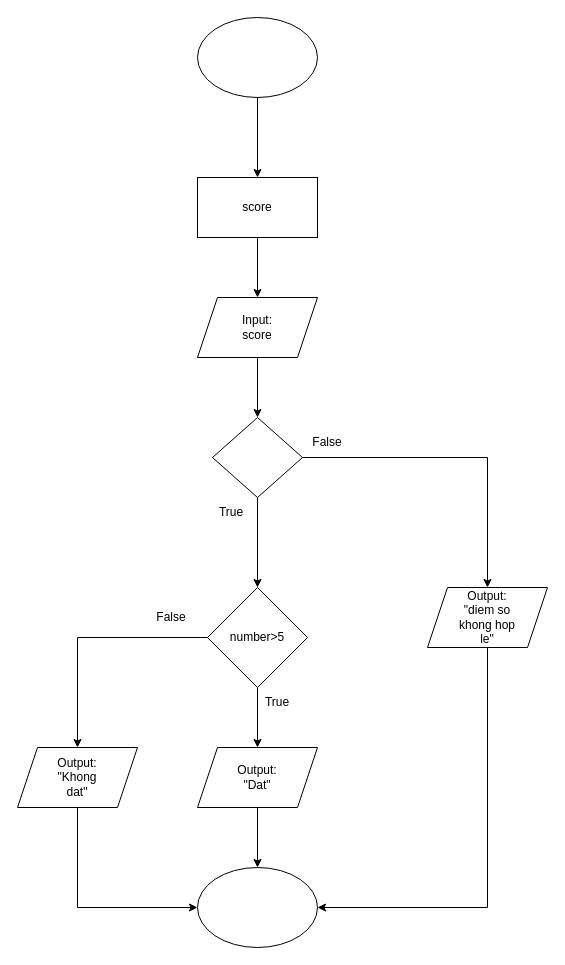
The diagram is 565 pixels wide and 965 high, and some of its shapes have lost their labels. The shapes that lost their labels are listed below. From the top down, each one's box as (x1, y1, x2, y2) in pixels, then its label:
(196, 16, 318, 98): Start
(212, 416, 302, 498): number>=0 and <=10
(196, 866, 318, 948): End
